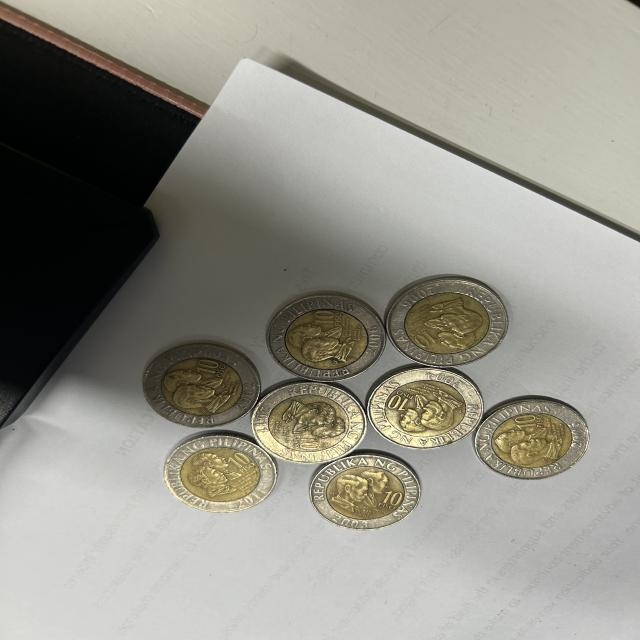10_Old_Front: (414, 331, 444, 348), (194, 358, 222, 376), (381, 489, 406, 508), (515, 414, 540, 431), (387, 394, 410, 412), (228, 451, 251, 469), (312, 310, 334, 326), (299, 436, 321, 448)
